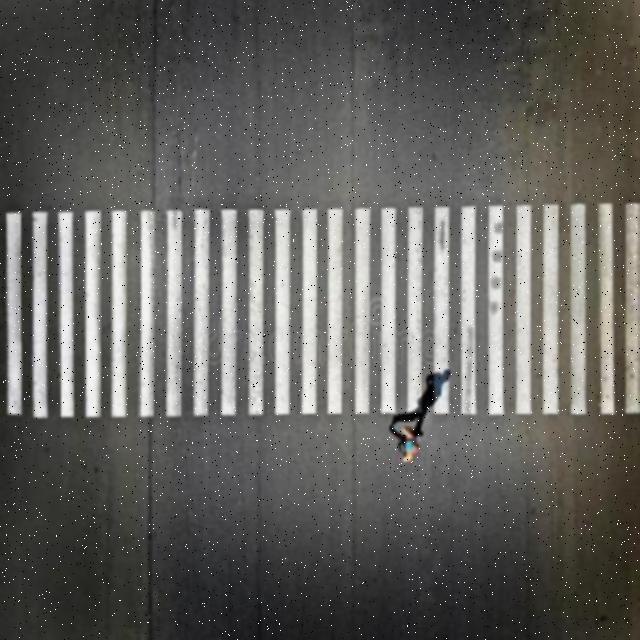Pedestrian crosswalk: (0, 175, 638, 453)
